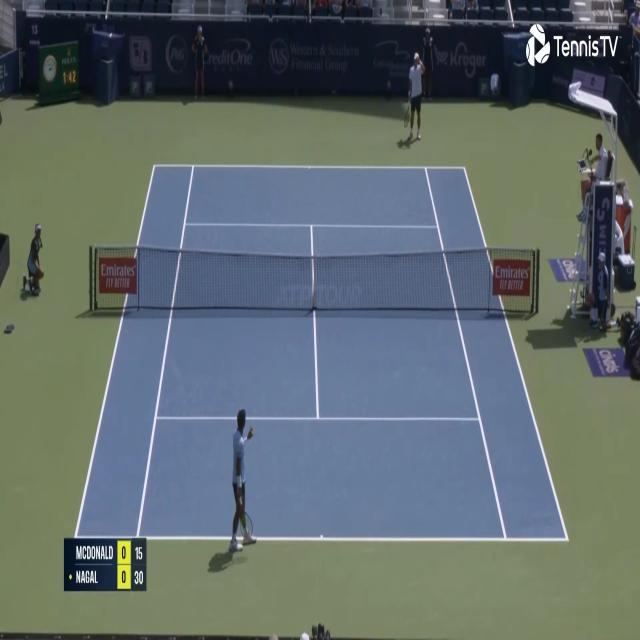tennis-player: (225, 405, 259, 558), (403, 52, 427, 142)
